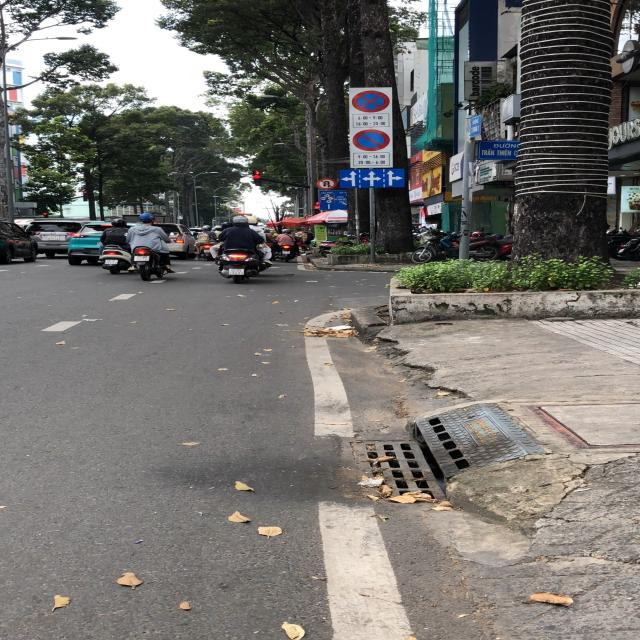Bien bao cam do xe: (354, 127, 392, 152)
Bien bao cam dung xe va do xe: (345, 87, 390, 114)
Bien bao cam quay dau xe: (314, 176, 338, 190)
